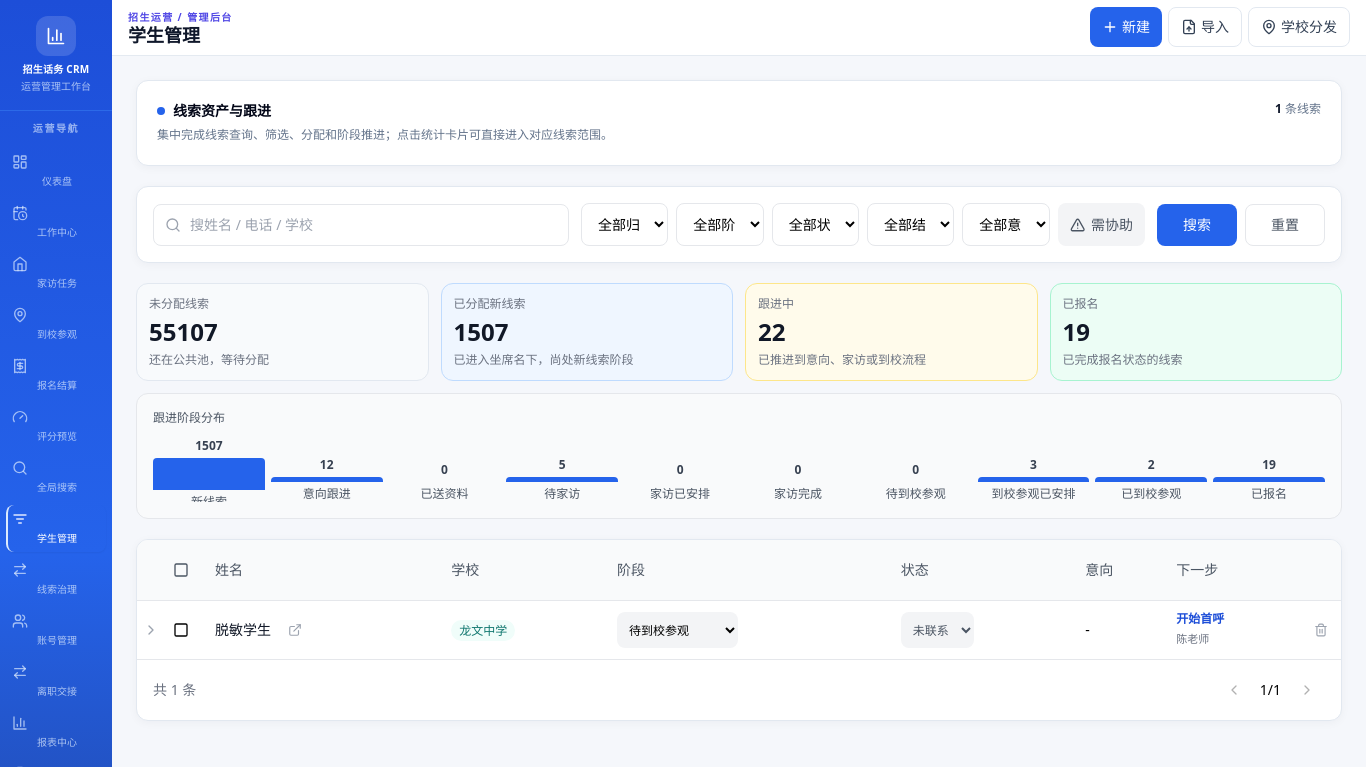
LeadsManage privacy › renders compact filters and applies ownership filters from the dropdown
Check: the text "脱敏学生" is shown, box [215,620,271,640]
Check: the field with placeholder "搜姓名 / 电话 / 学校" is shown, box [153,204,569,246]
Select "未分配" in the dropdown named "按分配状态筛选学生" at [625, 224], box [581,203,668,246]
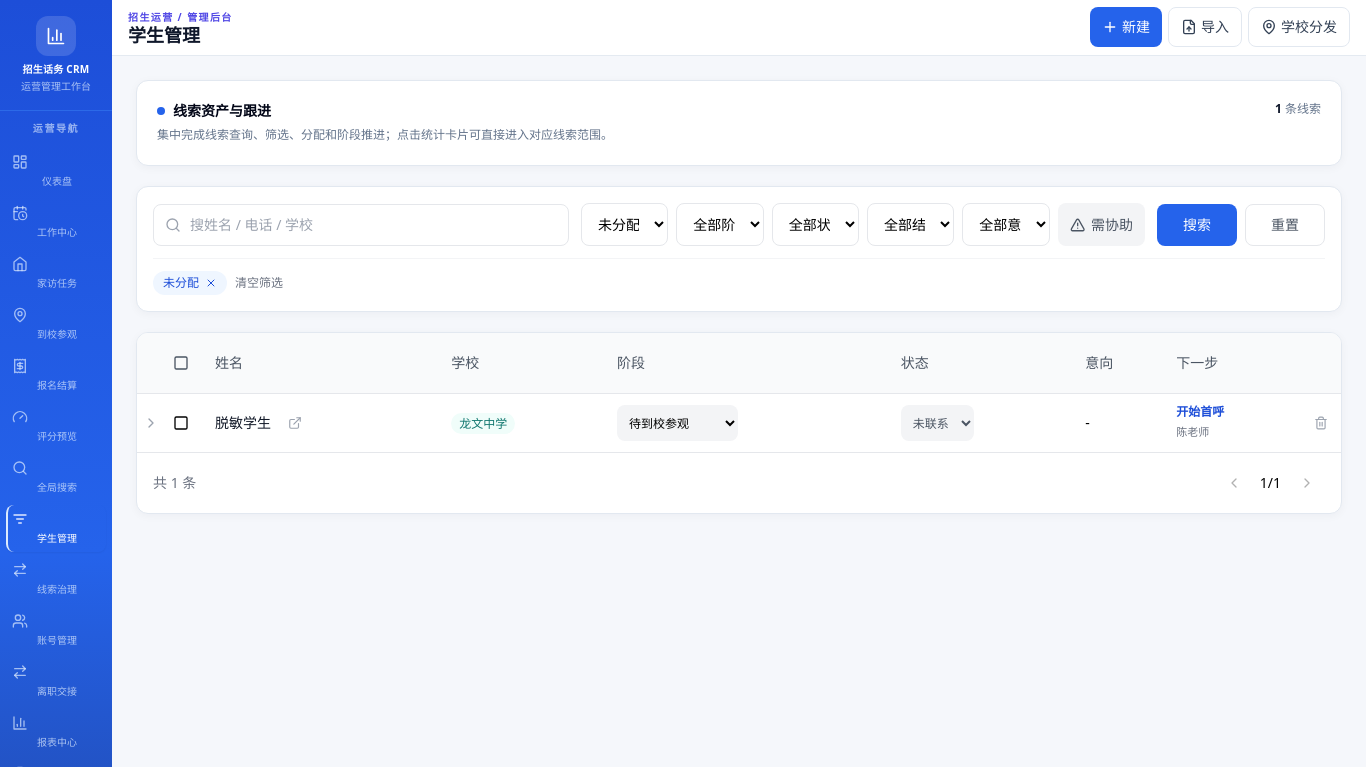
Check: the button "未分配" is shown, box [153,271,227,295]
Select "陈老师" in the dropdown named "按分配状态筛选学生" at [625, 224], box [581,203,668,246]
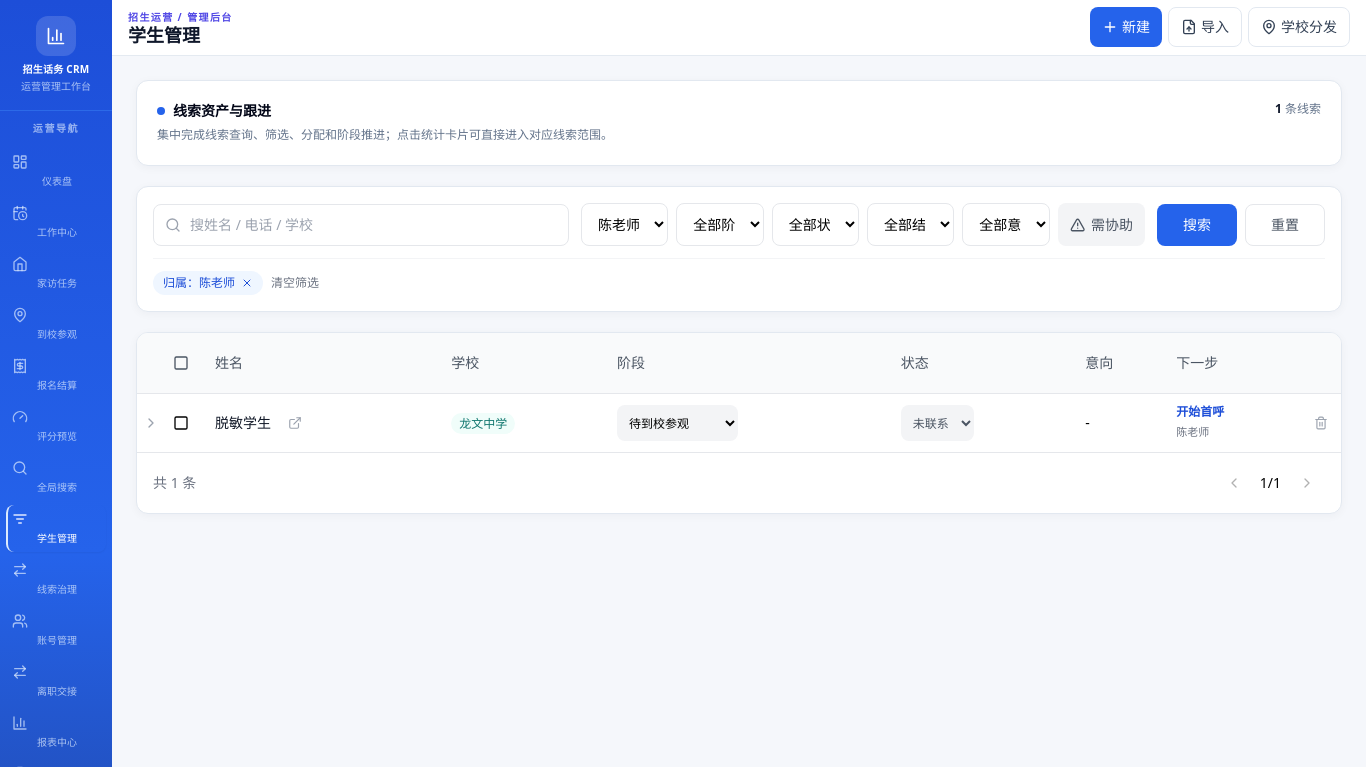
Check: the button "归属：陈老师" is shown, box [153,271,263,295]
